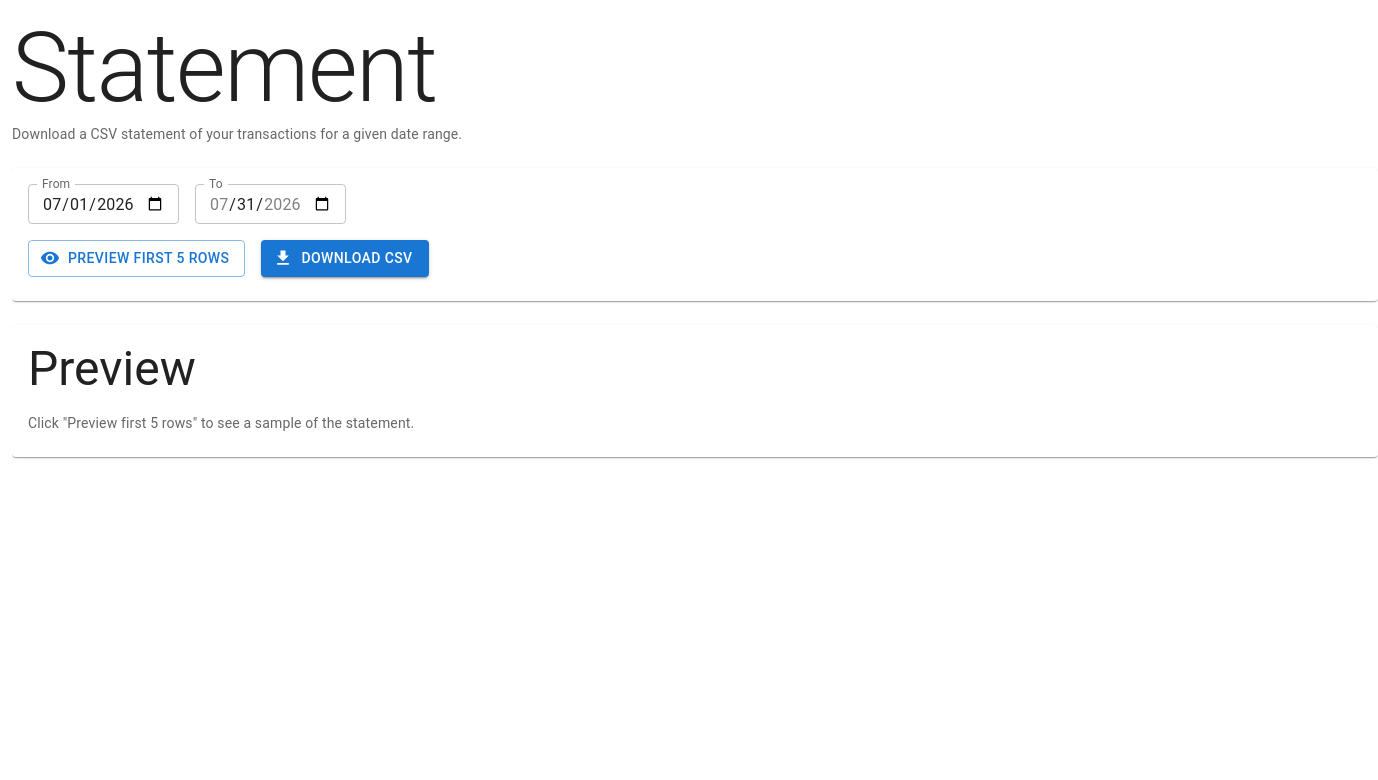
Test: StatementPage › surfaces a snackbar error if download throws
This screenshot has width=1378, height=780.
Click the button with test id "download-button".
click(345, 258)  # box [261,240,429,276]
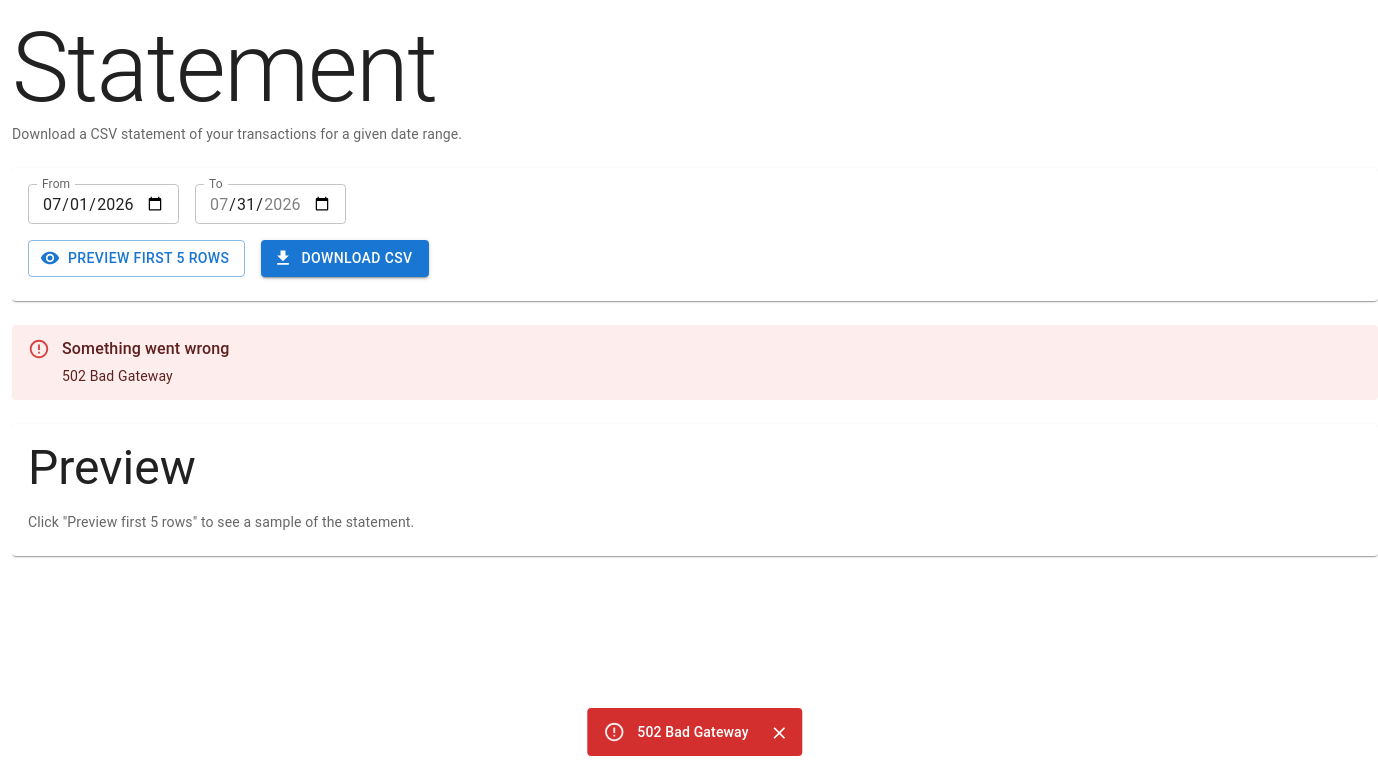
Expected: the message with test id "snackbar-toast" reads "502 Bad Gateway", [637,724,749,740]
